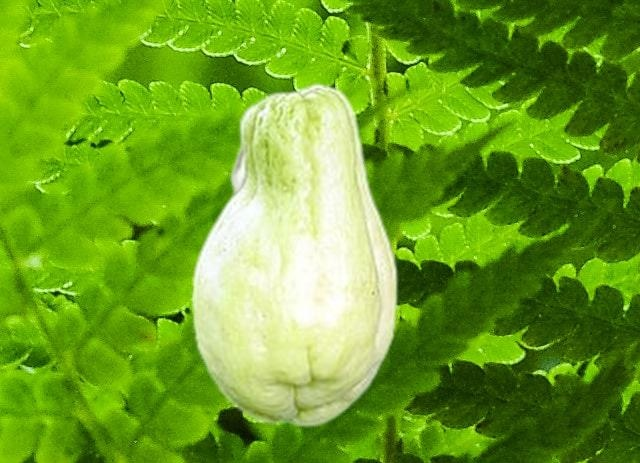sayote: (190, 82, 397, 427)
